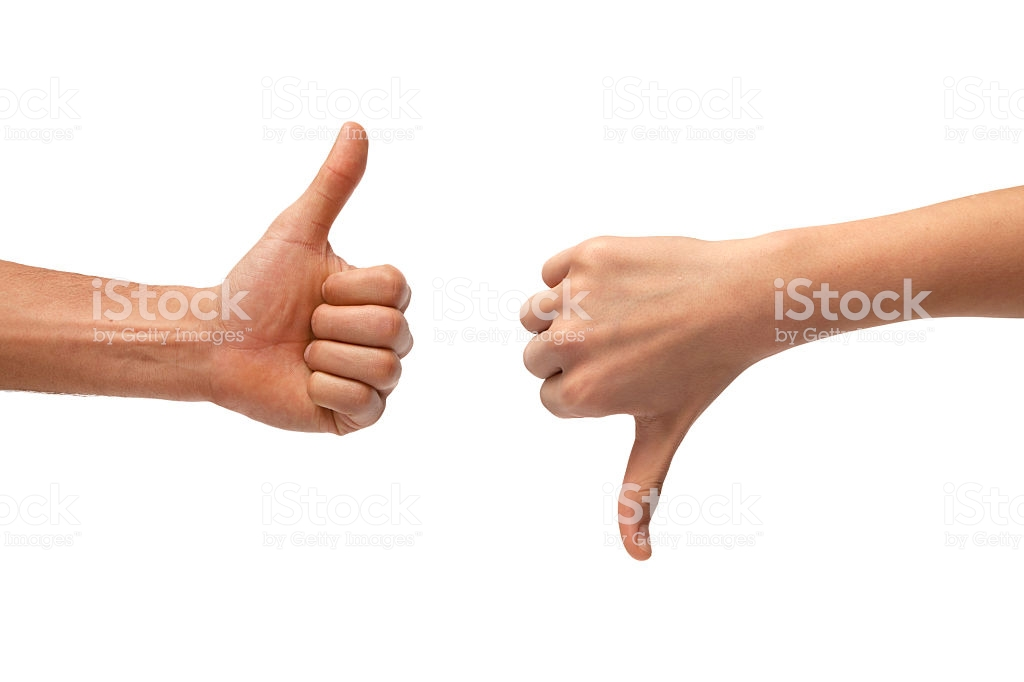thumbsup: (214, 117, 416, 436)
